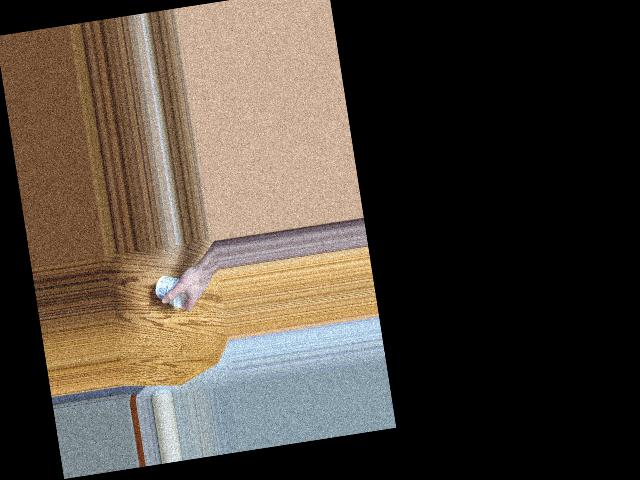cotage: (152, 270, 190, 312)
